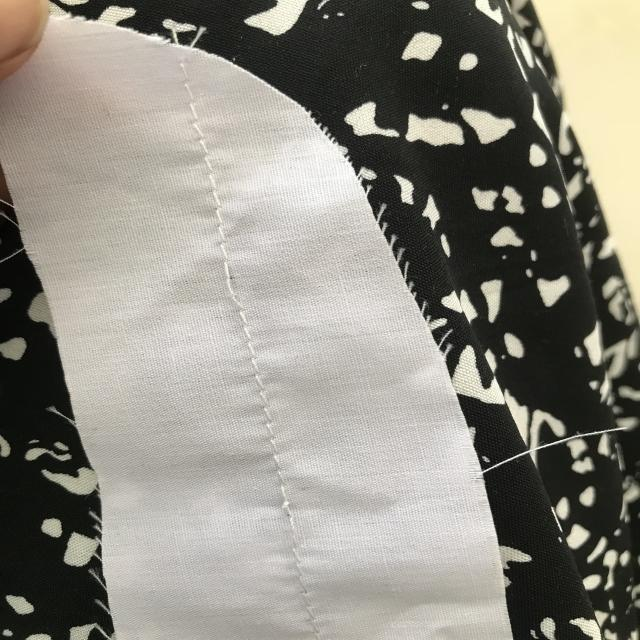skip: (201, 243, 268, 341)
